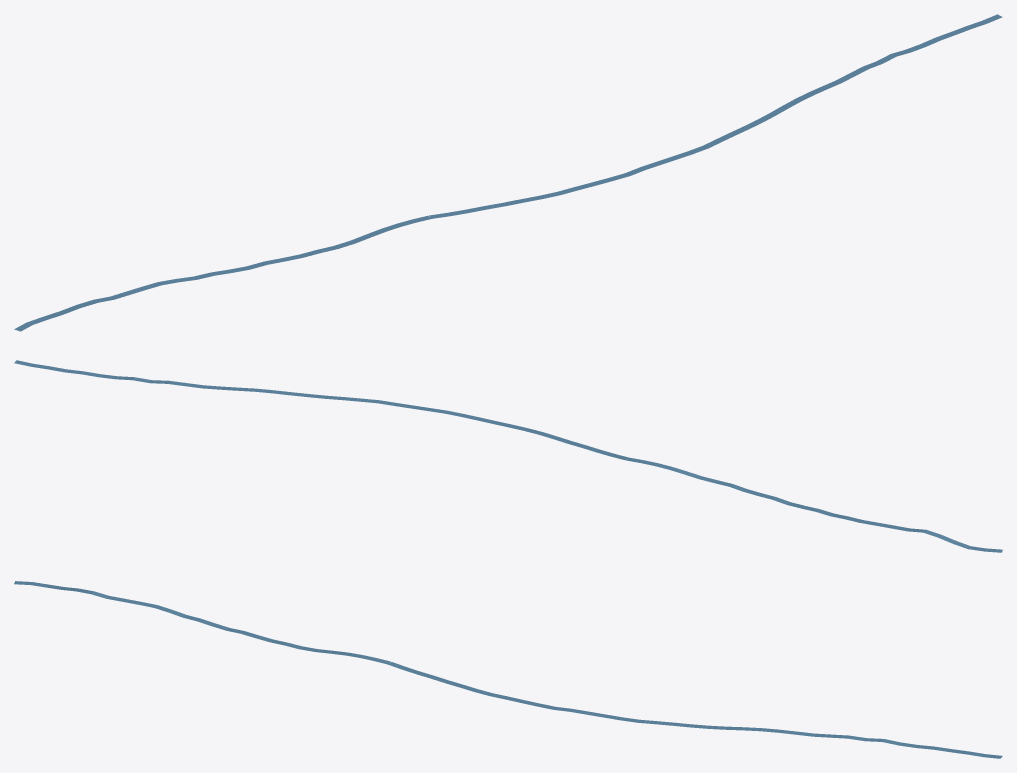
File: c_1636_17835_water.glb
3 renders of one model, top to bottom at view 1: azimuth 30°, elevation 25°; view 2: azimuth 150°, elevation 25°; view 3: azimuth 330°, elevation 25°, orthographic. The views are drawn at different scales.
Parts seen in each view (by area): view 1: geometry_0; view 2: geometry_0; view 3: geometry_0.
Part boxes in pixels (bbox=[...]): geometry_0: bbox=[14, 14, 1002, 331]; geometry_0: bbox=[14, 360, 1002, 552]; geometry_0: bbox=[14, 581, 1002, 758].
Size of the model in its own units: 353 by 2.7 by 42.45.
